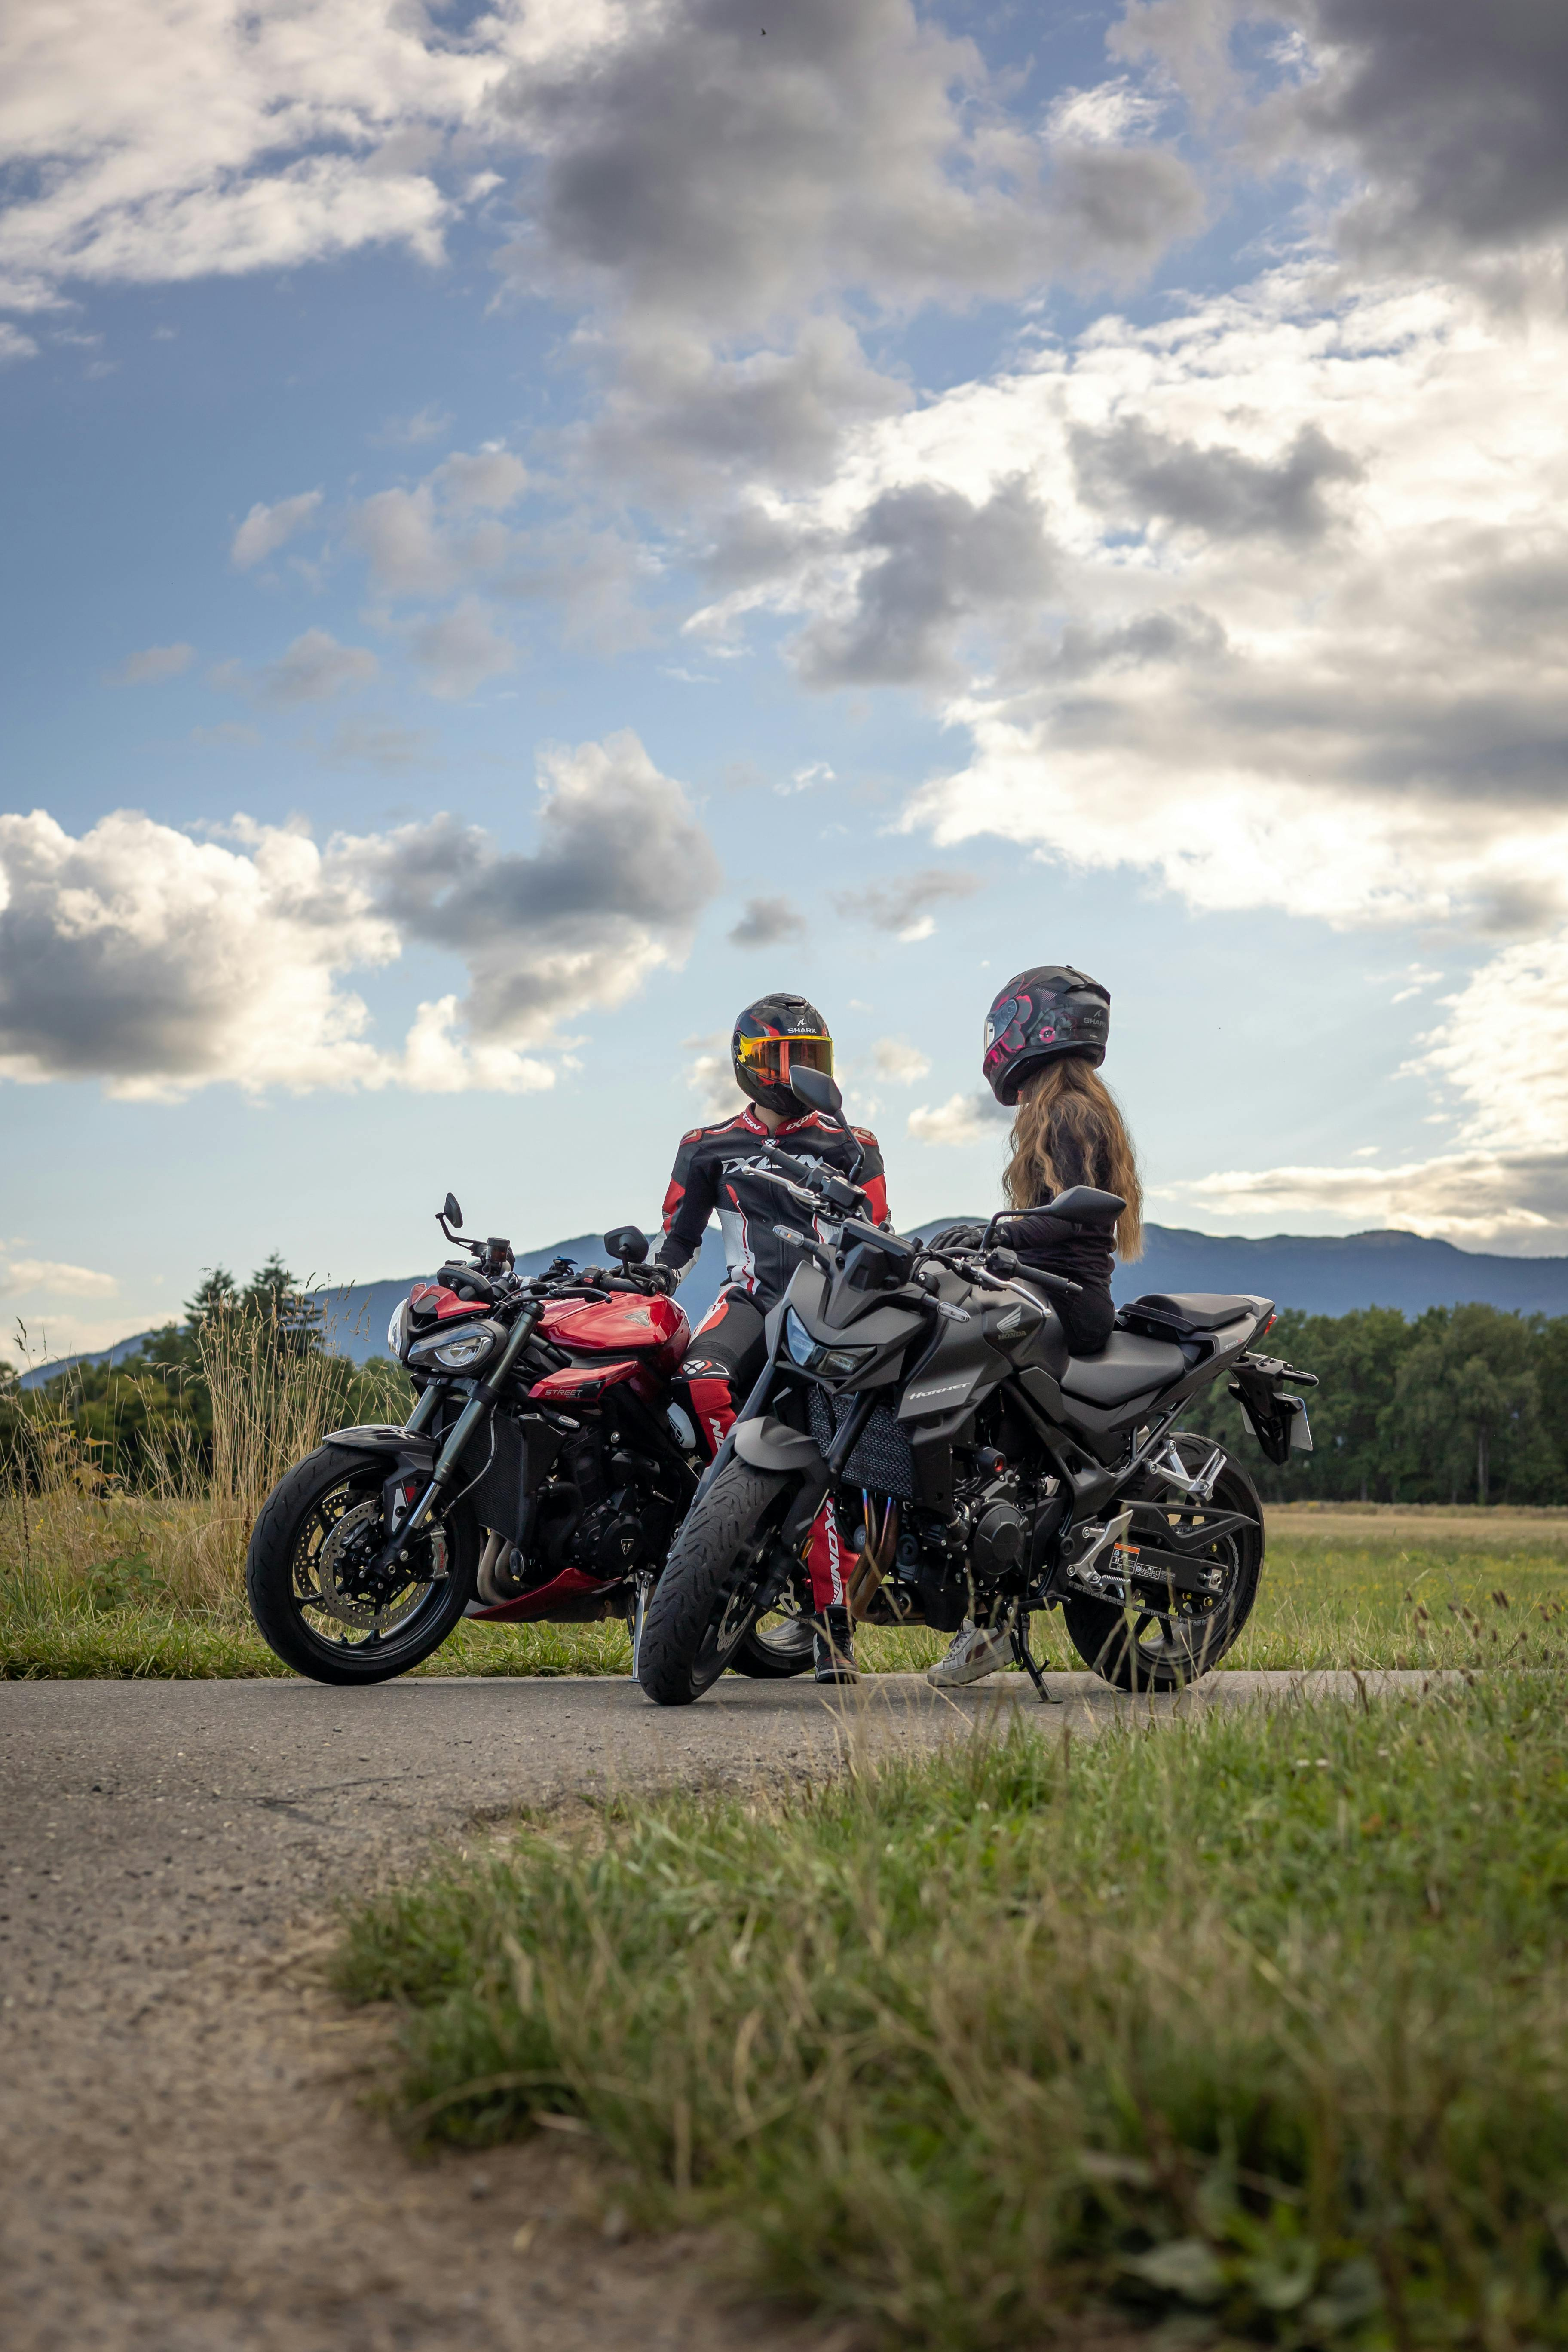capacete: (971, 955, 1120, 1108), (710, 982, 850, 1115)
